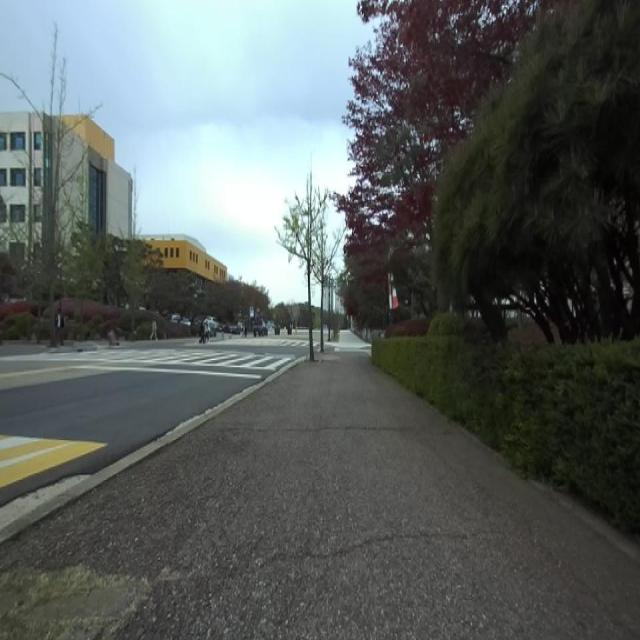sidewalk: (0, 352, 640, 639), (0, 357, 306, 543)
